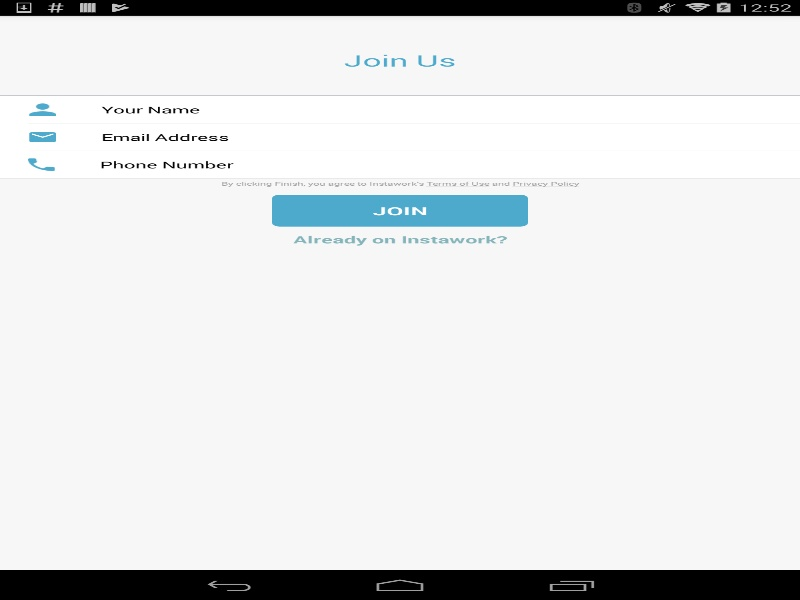Input: (84, 152, 800, 177), (85, 97, 800, 122), (85, 125, 800, 150)
